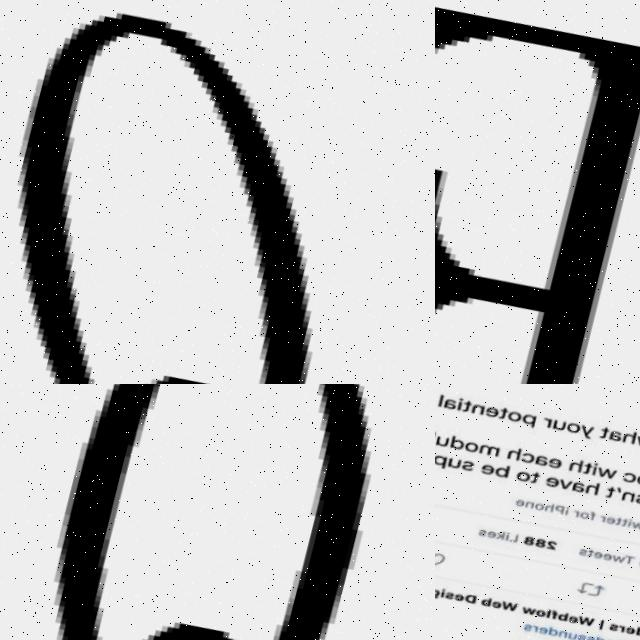4: (521, 539, 534, 552), (532, 542, 545, 554)
A: (442, 402, 457, 416), (607, 437, 622, 450), (533, 460, 547, 473), (570, 487, 584, 500)
B: (492, 467, 509, 483), (554, 616, 567, 628), (479, 601, 490, 612)
C: (621, 478, 635, 491), (520, 457, 534, 470)
D: (448, 439, 465, 455), (462, 597, 475, 609), (545, 631, 556, 640), (633, 632, 640, 640)
E: (435, 17, 640, 384), (543, 481, 559, 495), (546, 463, 562, 476), (484, 410, 498, 423), (479, 468, 493, 481), (452, 596, 464, 607), (565, 620, 577, 630), (489, 604, 501, 614), (485, 535, 496, 544), (535, 631, 546, 640), (622, 632, 634, 640), (514, 503, 524, 512), (602, 559, 612, 568), (591, 557, 601, 566), (604, 523, 614, 531), (636, 566, 640, 575)
F: (548, 615, 556, 626), (587, 517, 595, 527)
G: (435, 592, 439, 603)
H: (505, 450, 521, 466), (583, 486, 599, 502), (621, 436, 636, 452), (568, 464, 583, 480), (544, 508, 554, 518)
I: (590, 469, 597, 483), (456, 402, 463, 414), (625, 525, 632, 534), (438, 592, 444, 602), (562, 512, 568, 521), (503, 537, 509, 546)
K: (494, 535, 505, 545)
L: (507, 537, 518, 548), (437, 398, 444, 411), (544, 614, 551, 624)
M: (476, 448, 500, 463)
N: (469, 407, 486, 420), (620, 497, 634, 510), (524, 506, 534, 514), (556, 636, 566, 640)
O: (564, 428, 580, 441), (506, 416, 522, 429), (514, 475, 530, 488), (462, 446, 478, 458), (533, 614, 546, 623), (579, 517, 589, 526), (634, 480, 640, 494), (534, 508, 544, 516)
P: (520, 419, 536, 434), (435, 457, 446, 473), (552, 510, 564, 521)
Q: (0, 0, 408, 384), (0, 384, 434, 640)
R: (540, 423, 551, 435), (597, 521, 604, 529), (571, 516, 578, 524), (616, 632, 623, 639), (530, 631, 537, 638)
S: (460, 463, 473, 477), (476, 532, 487, 543), (443, 594, 454, 605), (632, 498, 640, 512), (607, 630, 617, 638), (577, 554, 586, 562), (522, 629, 531, 637)
T: (598, 433, 609, 447), (581, 468, 592, 482), (604, 492, 615, 506), (529, 476, 540, 490), (498, 412, 509, 425), (461, 404, 472, 417), (622, 562, 633, 572), (613, 523, 622, 533), (585, 554, 593, 564), (620, 525, 628, 534)
U: (446, 461, 462, 474), (552, 424, 566, 437), (435, 439, 447, 452), (566, 637, 576, 640)
V: (557, 484, 572, 497)
W: (595, 472, 616, 487), (575, 620, 593, 634), (499, 605, 517, 618), (519, 611, 534, 621), (610, 561, 623, 570), (633, 441, 640, 457), (629, 527, 640, 537)
Y: (578, 431, 592, 446)
